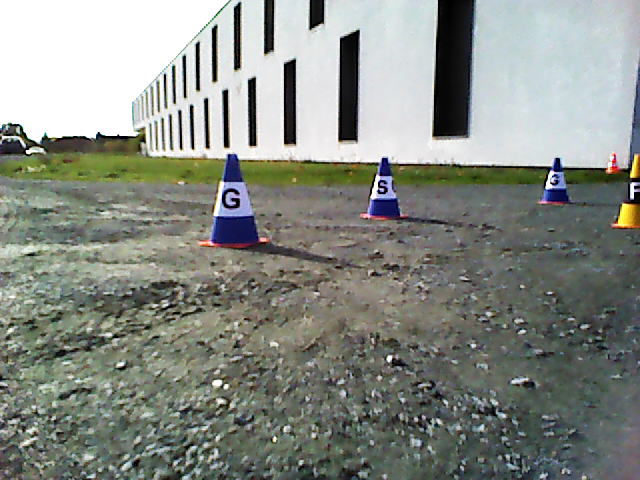bluecone: (213, 155, 258, 241), (366, 158, 400, 216), (542, 158, 570, 202)
yellowcone: (617, 154, 640, 225)
